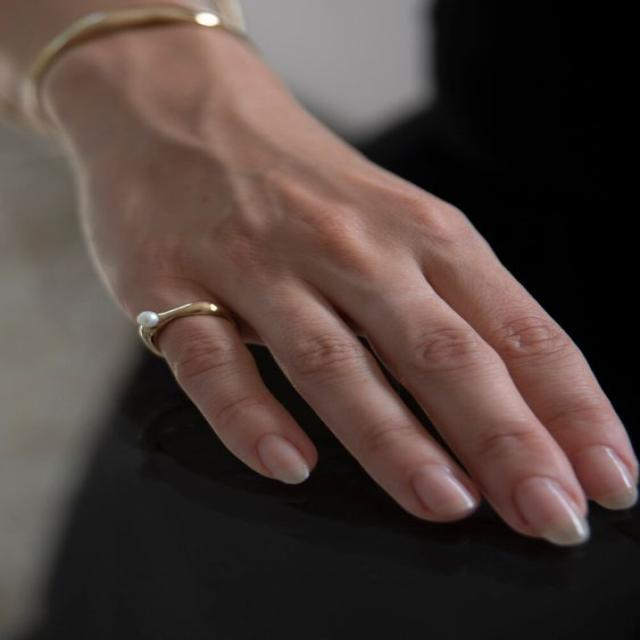Fingernail: (514, 476, 591, 546), (576, 446, 637, 511), (412, 464, 479, 518), (258, 432, 308, 481)
